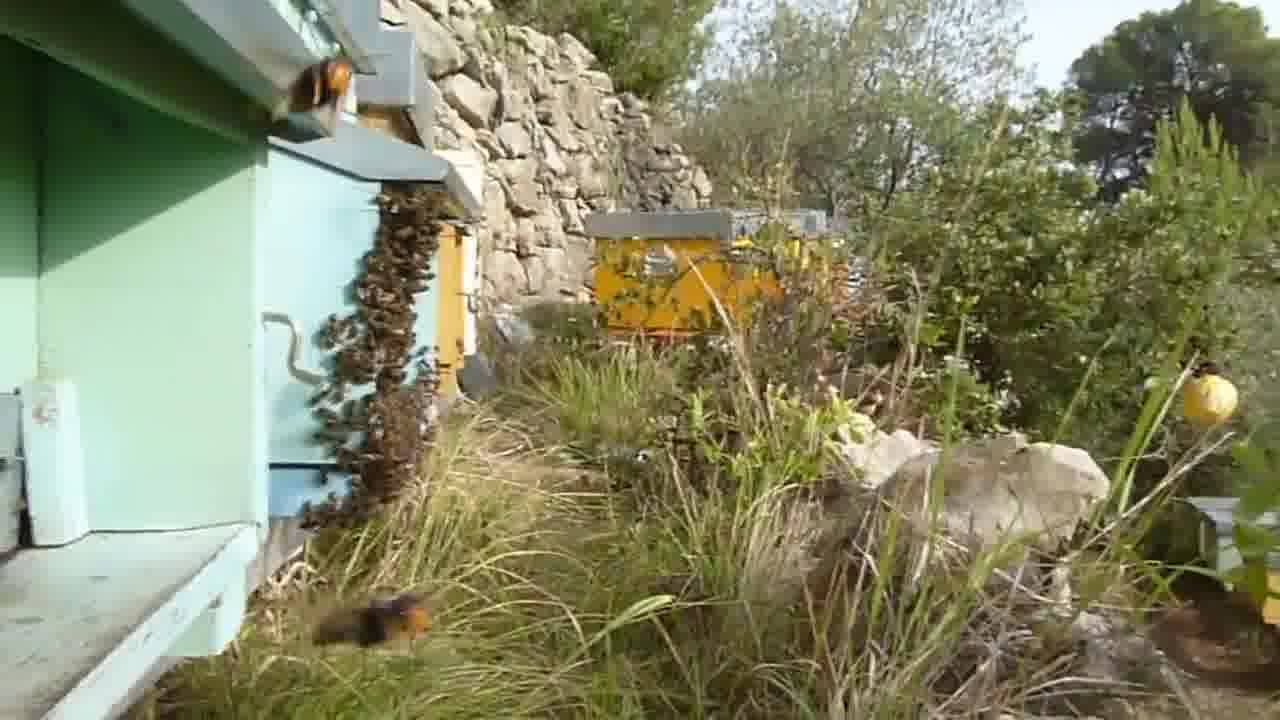bee: (306, 386, 410, 519), (361, 190, 449, 282), (325, 294, 414, 372)
hornet: (269, 33, 390, 133), (301, 592, 447, 657)
